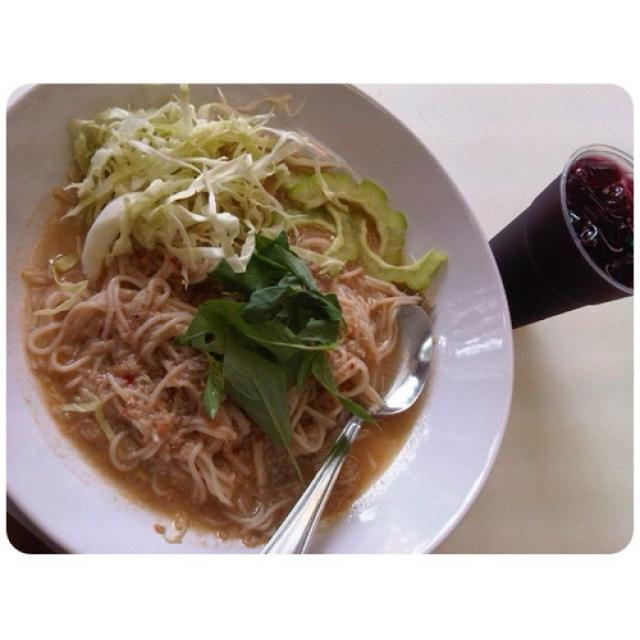面条主食: (18, 90, 531, 570)
